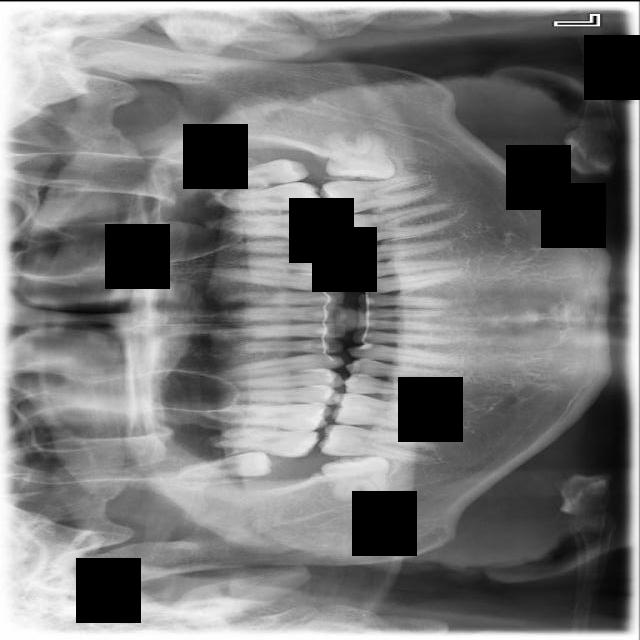3M ESPE Implant: (163, 449, 272, 485)
52: (327, 206, 379, 251), (330, 389, 383, 429), (282, 209, 335, 241), (281, 401, 335, 432), (294, 252, 346, 278)
73: (550, 60, 576, 64)
BioHorizons Implant: (203, 180, 324, 214)
BioLife Implant: (193, 156, 311, 189)
Biomet 3i Implant: (321, 127, 395, 182)
Blue Sky Bio Implant: (317, 167, 439, 218)
Caries: (202, 425, 321, 458)
Implant: (316, 421, 439, 468)
Keystone Dental Implant: (320, 453, 391, 505)
